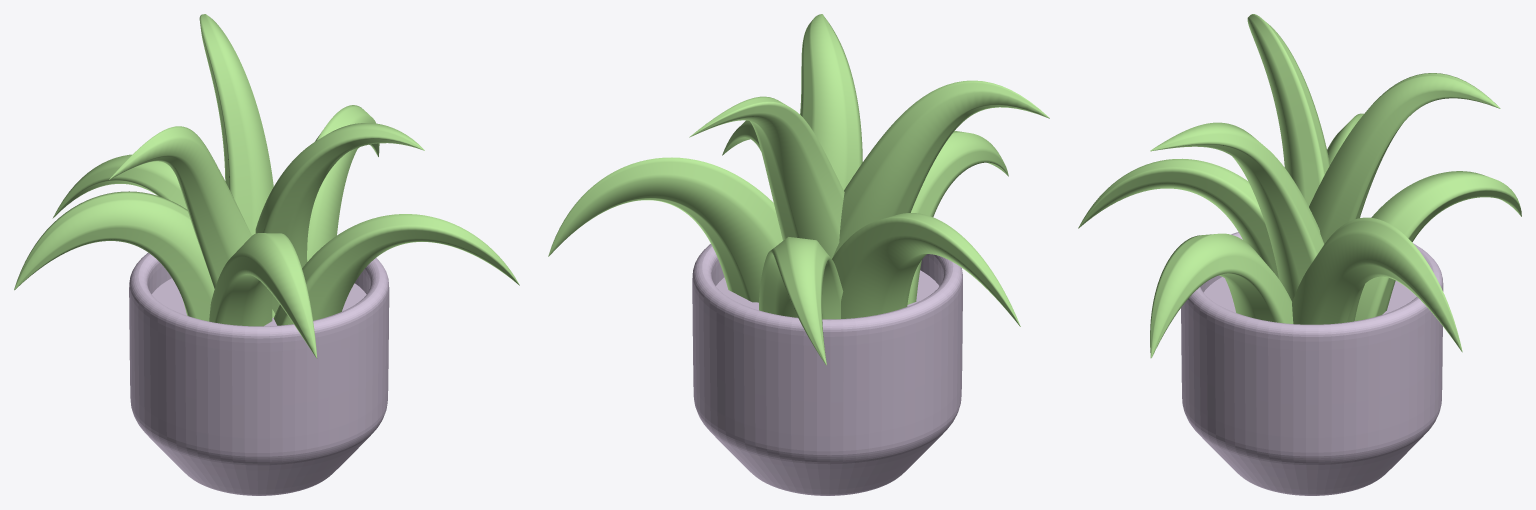
Rendered from planta.fbx.
3 renders of one model, left to right at view 1: azimuth 30°, elevation 25°; view 2: azimuth 150°, elevation 25°; view 3: azimuth 270°, elevation 25°, orthographic. The views are drawn at different scales.
Parts seen in each view (by area): view 1: PLANTA, maceta; view 2: PLANTA, maceta; view 3: PLANTA, maceta.
Boxes of the visible parts, <box> form: PLANTA: <box>14,14,519,358</box>; maceta: <box>129,252,389,495</box>; PLANTA: <box>548,14,1049,365</box>; maceta: <box>692,244,962,495</box>; PLANTA: <box>1078,14,1521,358</box>; maceta: <box>1181,232,1443,495</box>.
Size of the model in its own units: 116 by 114 by 124.
